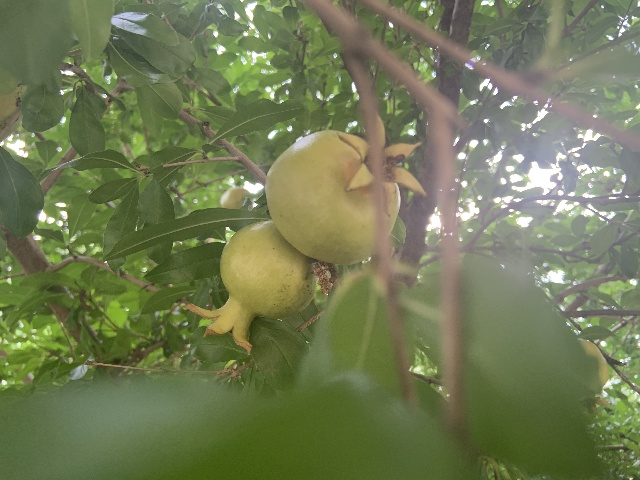early-fruit: (263, 118, 425, 267)
mid-growth: (183, 221, 314, 353), (573, 339, 610, 414), (219, 187, 253, 210)
